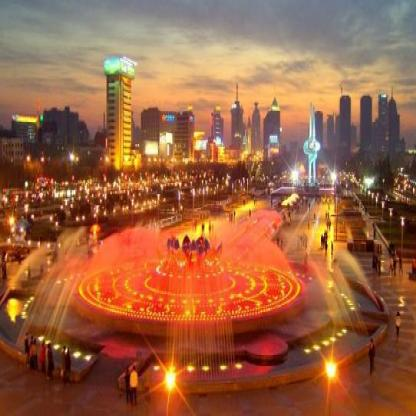other: (78, 218, 307, 325), (305, 335, 348, 388), (315, 187, 338, 280), (100, 124, 140, 173), (158, 359, 183, 403), (2, 284, 30, 318)
